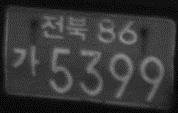3: (77, 48, 104, 96)
5: (48, 47, 73, 94)
6: (118, 18, 138, 46)
8: (97, 17, 116, 43)
9: (108, 51, 135, 99), (138, 54, 165, 102)
가: (11, 43, 40, 76)
전북_O: (40, 13, 88, 41)
